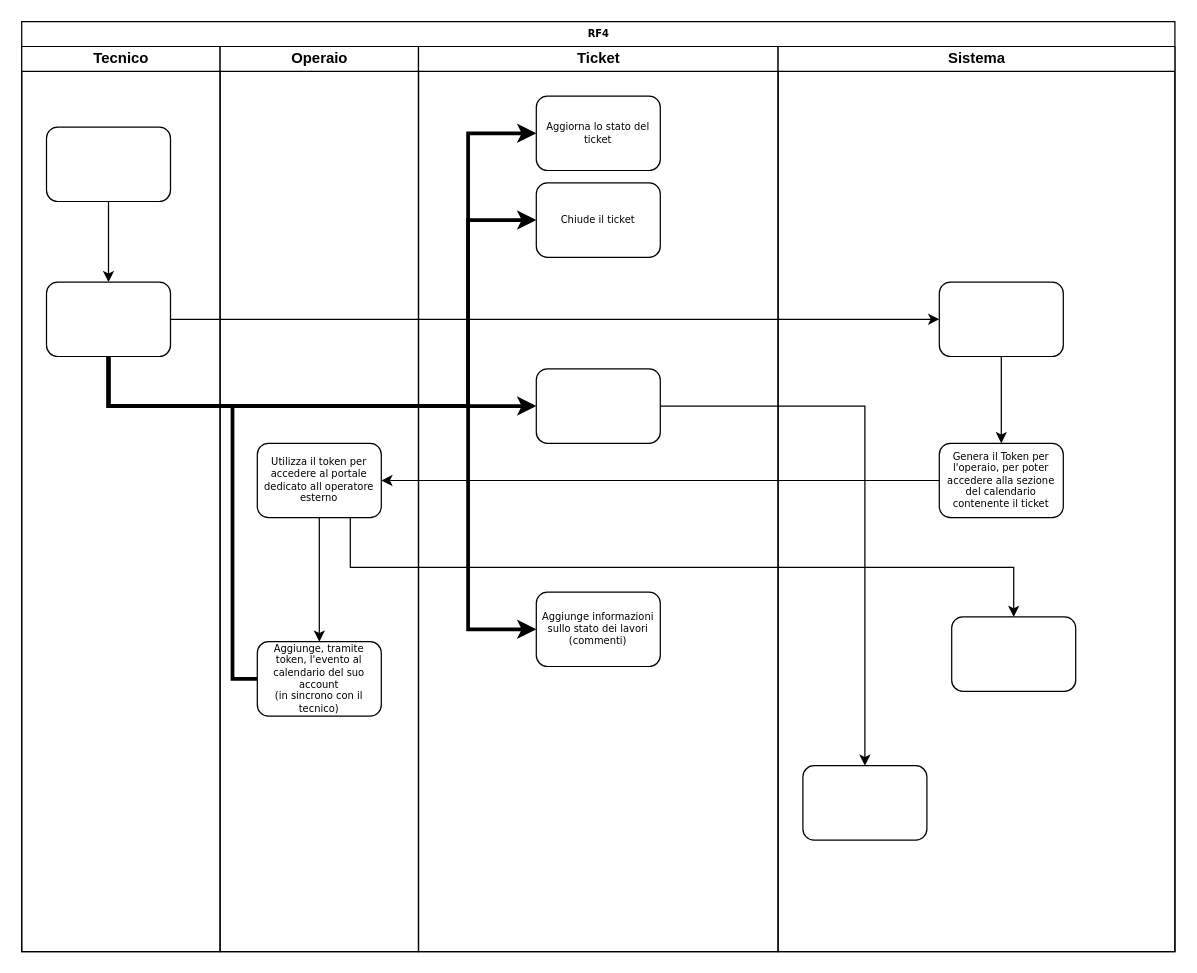
Some shapes in this 1197 by 973 pixel diagram are drawn without their labels. The centre of each missing label's shape, as x and y in pixels:
Crea l'evento nel calendario con le relative informazioni inserite: the point at 1000,318
Il sistema blocca l'impostazione di date passate partendo dal presente: the point at 864,802
Immette data e ora per lo svolgimento dei lavori: the point at 597,405
Organizza i ticket nel calendario integrato nella web app: the point at 107,318
Se token è errato allora ritorna un messaggio di errore: the point at 1013,653
Visualizza la pagina "gestione" da cui sono visibili i ticket accettati: the point at 107,164
